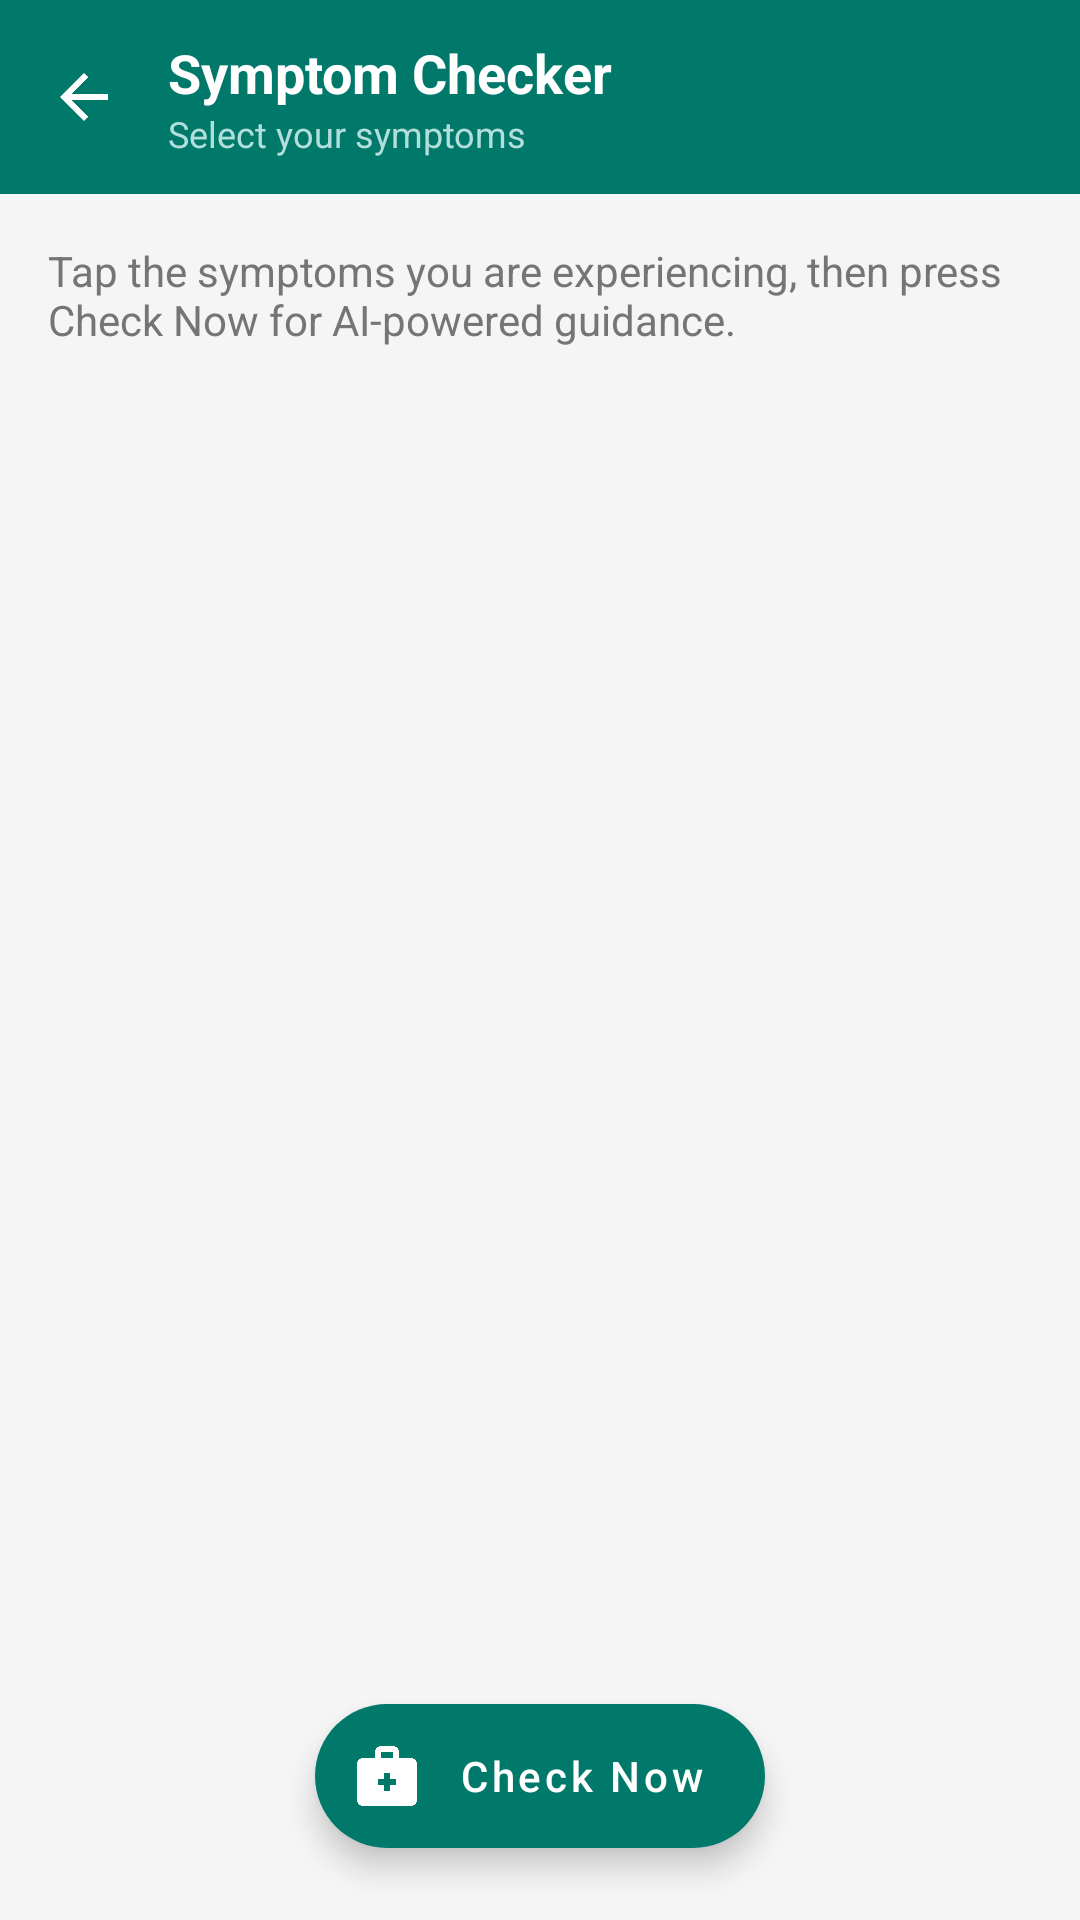

Screen size 1080px x 1920px. Icon name, then its center in pixels as (x=x, y=y):
Back: (x=84, y=97)
